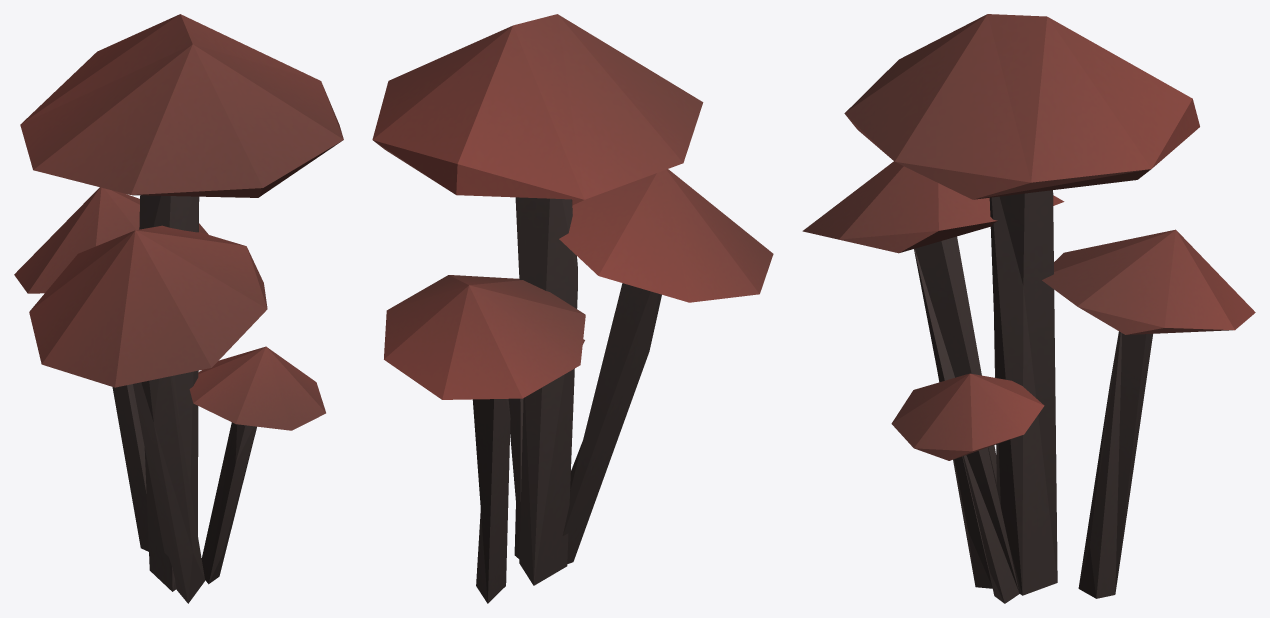
File: Mush_1E_LOD.fbx
The picture shows the model from 3 angles, left to right: view 1: azimuth 30°, elevation 25°; view 2: azimuth 150°, elevation 25°; view 3: azimuth 270°, elevation 25°; orthographic projection. The views are drawn at different scales.
Parts seen in each view (by area): view 1: polySurface1315; view 2: polySurface1315; view 3: polySurface1315.
Boxes of the visible parts, x1,y1,x2,y2 form: polySurface1315: (14,14,343,603); polySurface1315: (372,14,773,603); polySurface1315: (802,14,1255,603).
Bounding box in the file's own units: 1.03 × 1.68 × 1.18.
